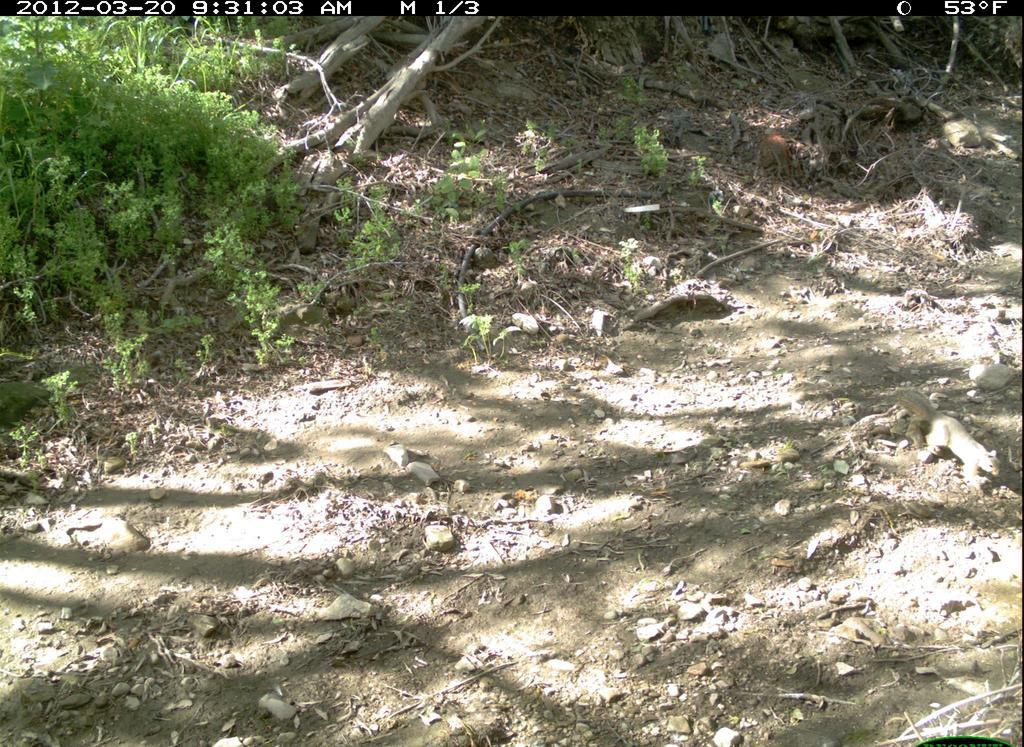squirrel: (880, 377, 1016, 497)
